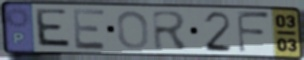2: (202, 10, 233, 53)
E: (35, 7, 74, 50), (70, 7, 108, 51)
F: (235, 10, 273, 55)
O: (115, 9, 151, 51)
R: (150, 9, 192, 52)
